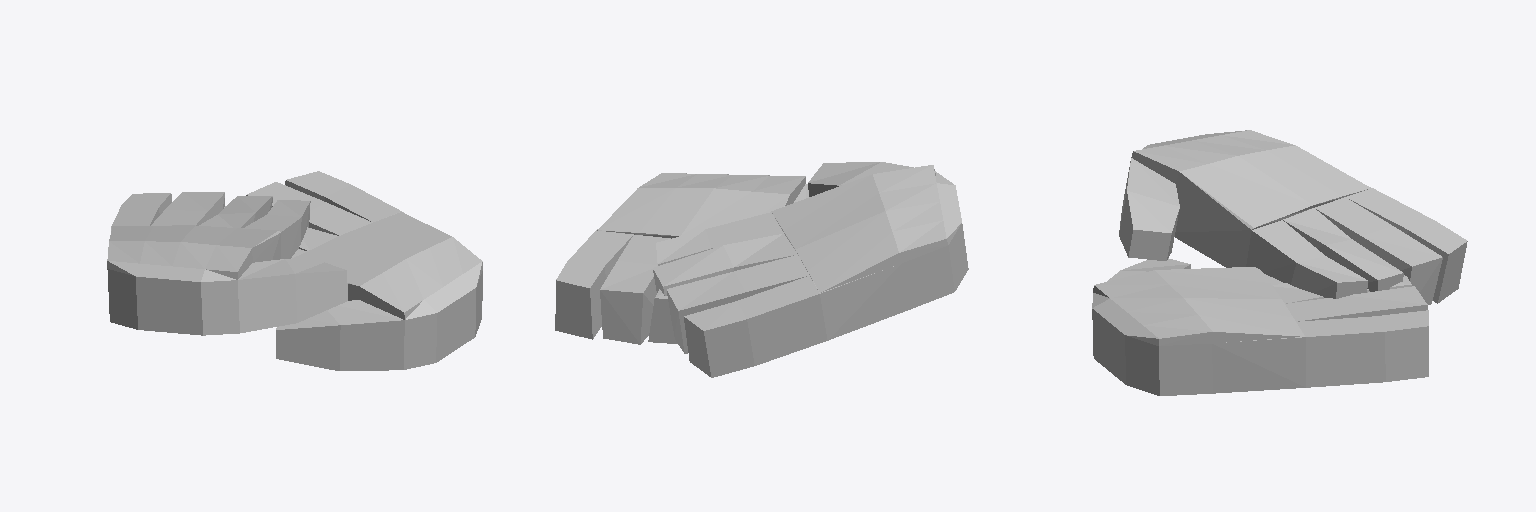
File: handjesdruk.obj
3 views of the same model, side by side, from view 1: azimuth 30°, elevation 25°; view 2: azimuth 150°, elevation 25°; view 3: azimuth 270°, elevation 25° (orthographic).
Visible parts, largest first — view 1: Cube.001_Cube.003, Cube_Cube.001; view 2: Cube.001_Cube.003, Cube_Cube.001; view 3: Cube.001_Cube.003, Cube_Cube.001.
Boxes of the visible parts, x1,y1,x2,y2 form: Cube.001_Cube.003: [107, 192, 347, 335]; Cube_Cube.001: [224, 171, 482, 370]; Cube.001_Cube.003: [653, 162, 968, 377]; Cube_Cube.001: [555, 173, 808, 344]; Cube.001_Cube.003: [1119, 130, 1467, 304]; Cube_Cube.001: [1092, 258, 1428, 395].
Bounding box in the file's own units: 3.62 × 1.25 × 3.54.